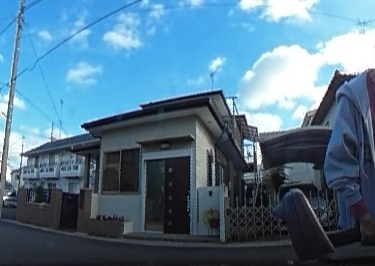person: (323, 15, 375, 239)
